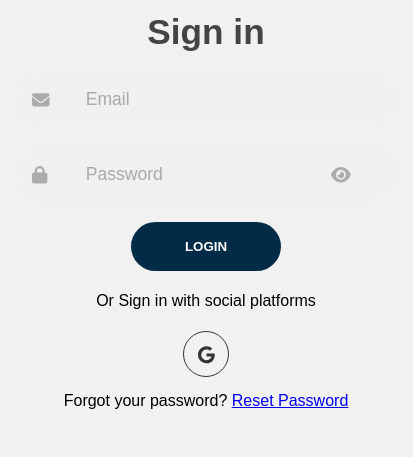
Scenario: LoginForm › submits form with invalid email, catches errors, and displays error message
Type "notfound@example.com" into the field with placeholder "Email" at (238, 100), box x1=86 y1=89 x2=390 y2=110
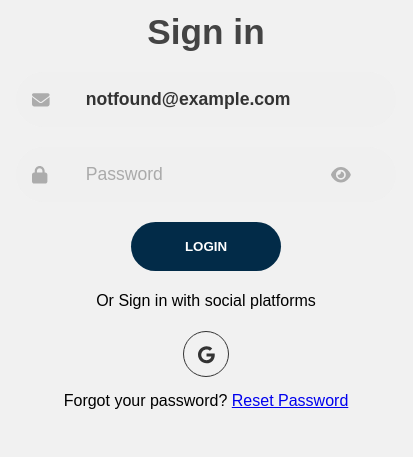
Type "wrongpassword" into the password field with placeholder "Password" at (238, 174), box x1=86 y1=164 x2=390 y2=185
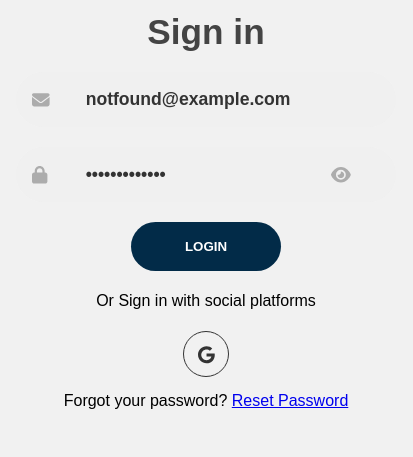
Click the button "Login" at (206, 246), box x1=131 y1=222 x2=281 y2=271
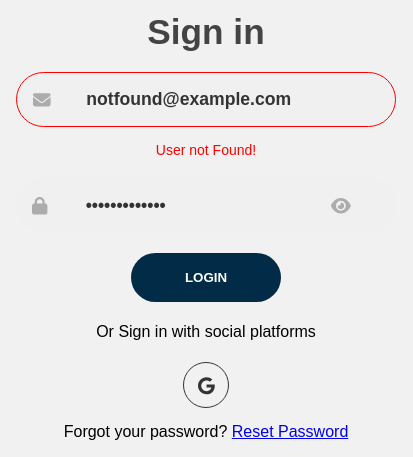
Expected: the text "User not Found!" is shown, x1=156 y1=142 x2=256 y2=158
